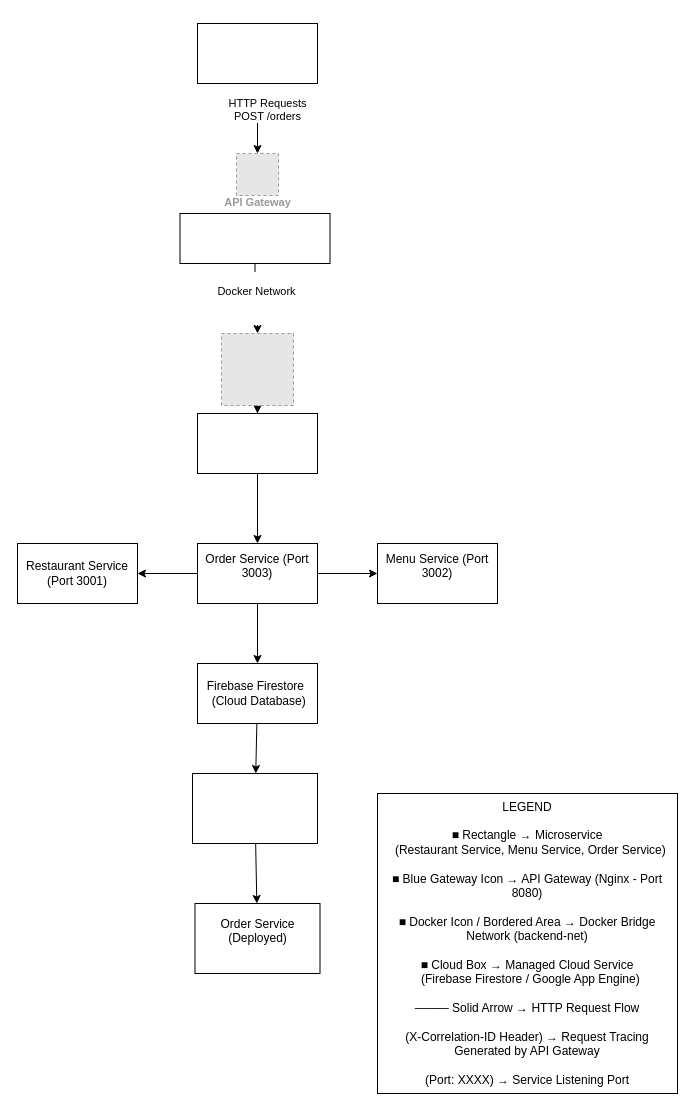
Image size: 695x1111. Some labels were removed from this diagram. Grey dashed boxes stand in for pictures. Here are the shapes that lost their labels. From the top down, the centre of each, then its label:
the point at 257,53: Client (Browser / Postman)
the point at 254,238: Port: 8080 Generates X-Correlation-ID
the point at 257,443: Docker Bridge Network (backend-net)
the point at 255,808: Google Cloud Platform App Engine (Standard)
